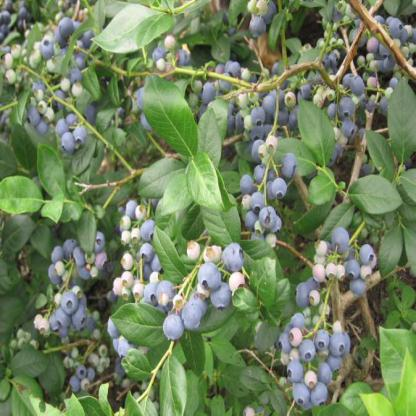blueberry leaf: (86, 1, 178, 56), (144, 74, 196, 162), (130, 158, 194, 218), (108, 300, 177, 352), (294, 97, 339, 173), (341, 174, 404, 222), (383, 76, 415, 162), (149, 217, 186, 287), (156, 347, 191, 415), (190, 157, 227, 216), (35, 139, 68, 202), (245, 256, 280, 314), (1, 174, 39, 223), (201, 106, 227, 165), (229, 367, 271, 396)
